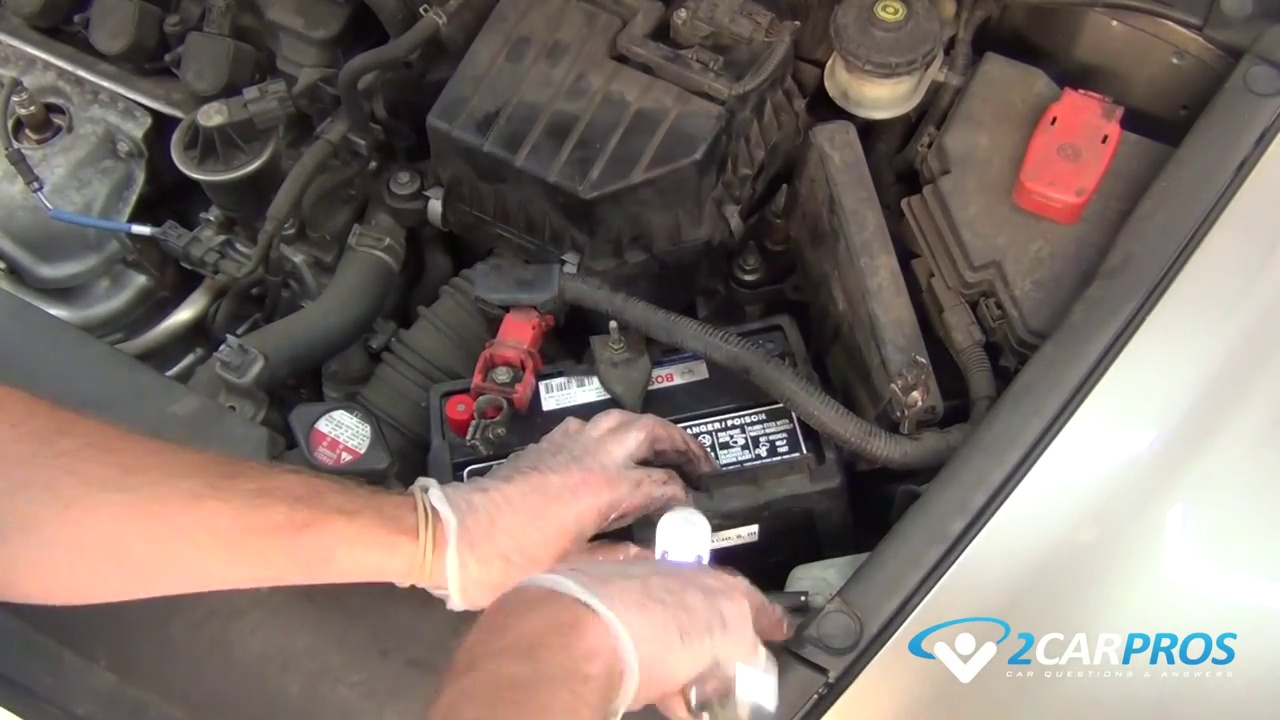battery: (421, 310, 824, 542)
pos_connected: (441, 321, 535, 451)
